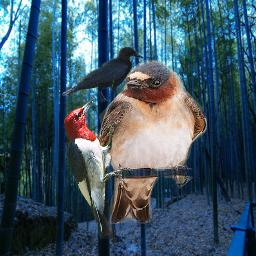Crow: (62, 46, 143, 103)
Swallow: (90, 60, 207, 224)
Woodpecker: (63, 98, 122, 239)
